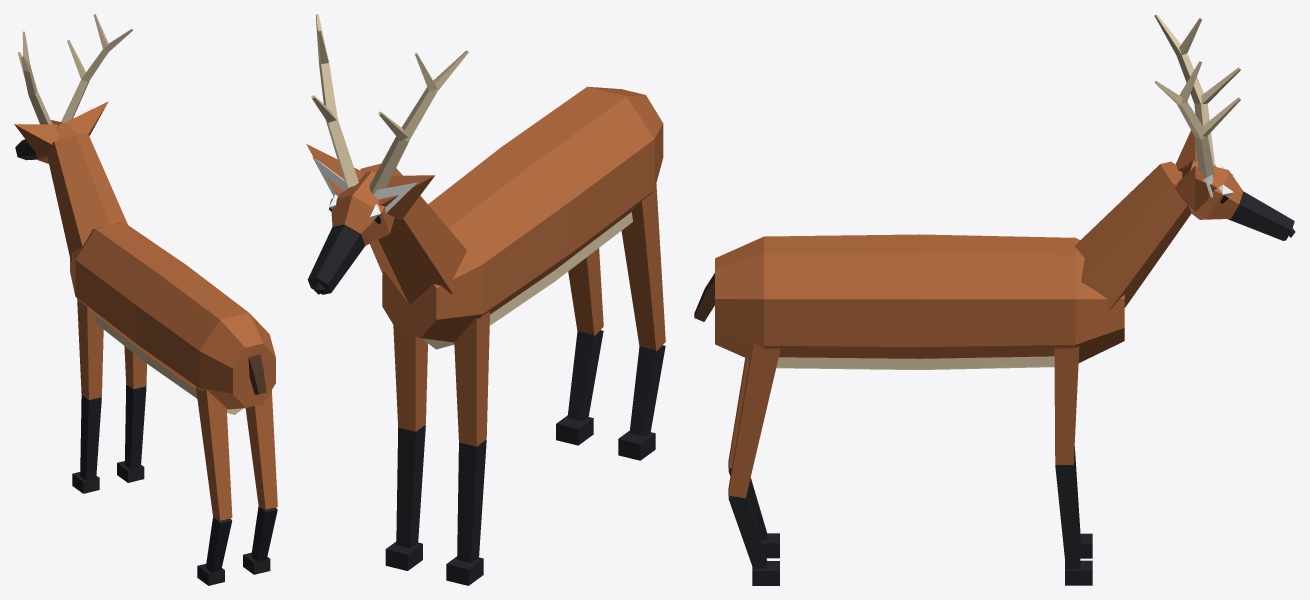
The model's file is cervo_pantanal.glb.
The picture shows the model from 3 angles, left to right: view 1: azimuth 30°, elevation 25°; view 2: azimuth 150°, elevation 25°; view 3: azimuth 270°, elevation 25°; orthographic projection. The views are drawn at different scales.
Visible parts, largest first — view 1: corpo; view 2: corpo; view 3: corpo.
Part boxes in pixels (x1=…): corpo: x1=14, y1=14, x2=277, y2=585; corpo: x1=306, y1=14, x2=665, y2=585; corpo: x1=694, y1=14, x2=1295, y2=585.
Size of the model in its own units: 0.2685 by 0.9682 by 1.
